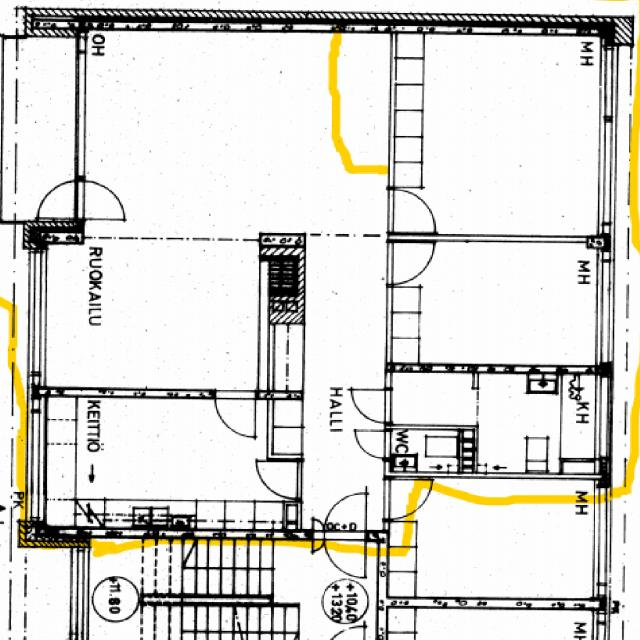door: (304, 142, 355, 188), (324, 529, 366, 581), (324, 489, 366, 541), (384, 190, 434, 232), (75, 179, 126, 218), (35, 179, 86, 218), (384, 479, 432, 519), (384, 244, 432, 284), (216, 389, 256, 437), (258, 462, 302, 498), (350, 390, 391, 423), (356, 432, 391, 458), (312, 530, 324, 552), (312, 518, 324, 540)
